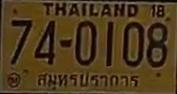0: (122, 21, 143, 66), (75, 20, 96, 65)
1: (106, 21, 112, 66)
4: (34, 19, 54, 64)
7: (10, 19, 31, 64)
8: (146, 22, 167, 66)
SPK: (35, 69, 140, 89)
